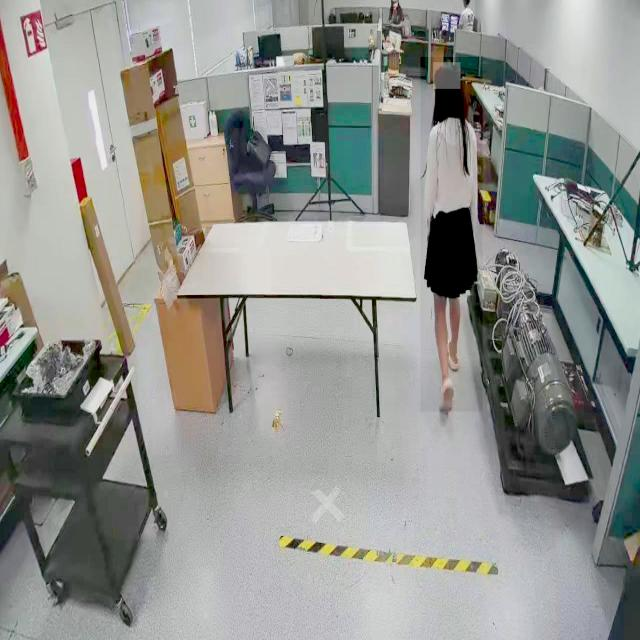head_nohelmet: (433, 62, 461, 90)
person: (421, 57, 483, 412)
